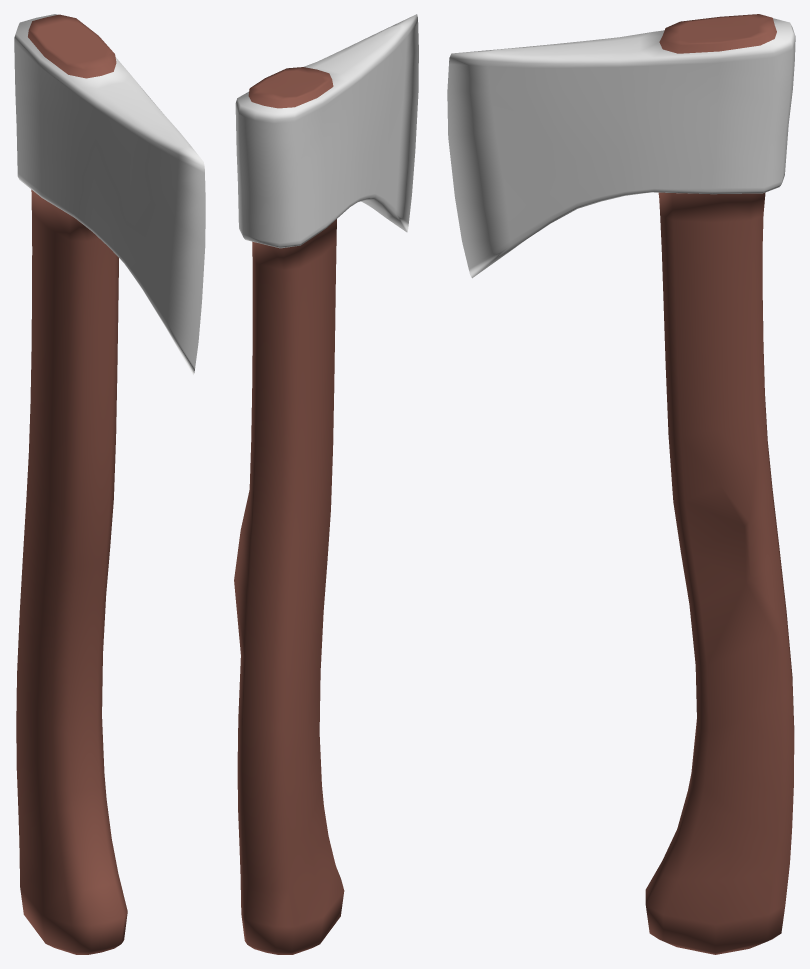
File: Axe.fbx
The picture shows the model from 3 angles, left to right: view 1: azimuth 30°, elevation 25°; view 2: azimuth 150°, elevation 25°; view 3: azimuth 270°, elevation 25°; orthographic projection. The views are drawn at different scales.
Visible parts, largest first — view 1: Axe; view 2: Axe; view 3: Axe.
Part boxes in pixels (x1,y1,x2,y2): Axe: (14,14,205,954); Axe: (234,14,418,954); Axe: (447,14,795,954).
Bounding box in the file's own units: 5.92 × 65.85 × 22.5.
